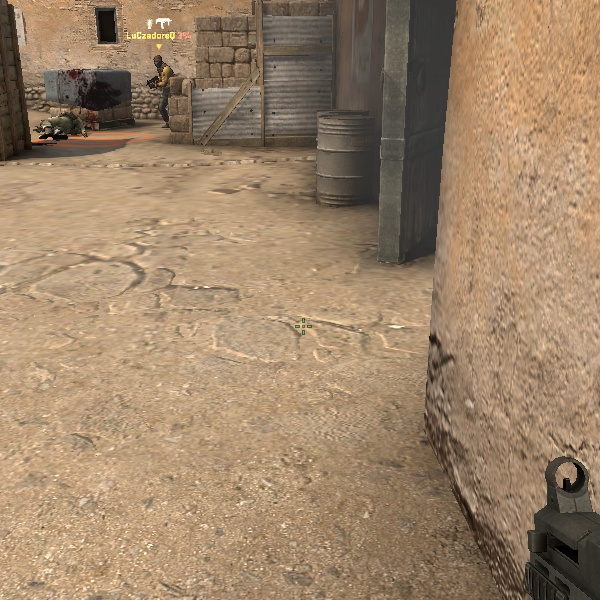t_body: (140, 51, 181, 129)
t_head: (153, 54, 164, 69)
